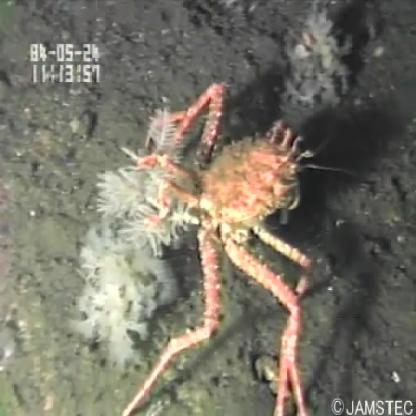Bio: (88, 75, 319, 416)
